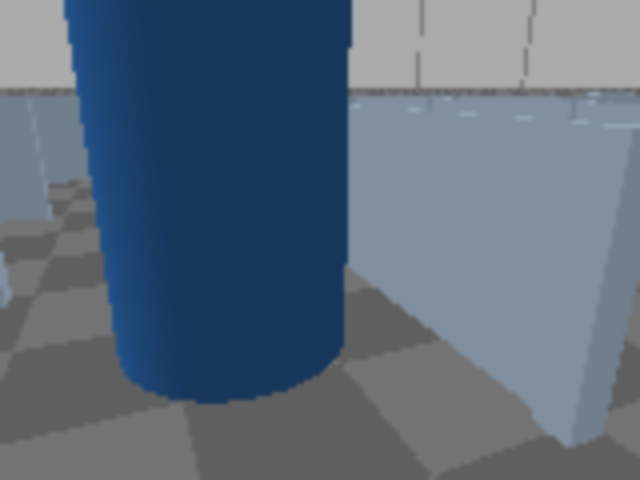person: (0, 0, 354, 396)
